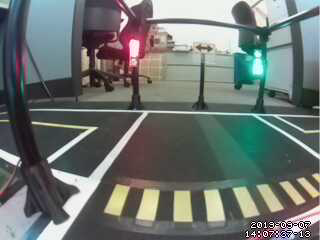Left_Right_sign: (191, 49, 217, 56)
Traffic_light_green: (252, 49, 263, 78)
Traffic_light_red: (126, 42, 141, 65)
